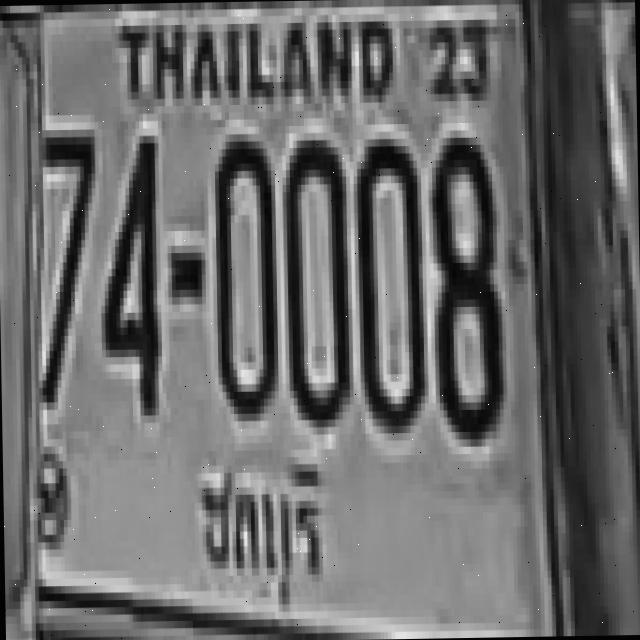0: (352, 130, 422, 427), (283, 132, 348, 420), (210, 133, 275, 414)
4: (98, 128, 158, 408)
7: (34, 122, 95, 402)
8: (427, 133, 500, 436)
Chonburi: (193, 438, 339, 640)
